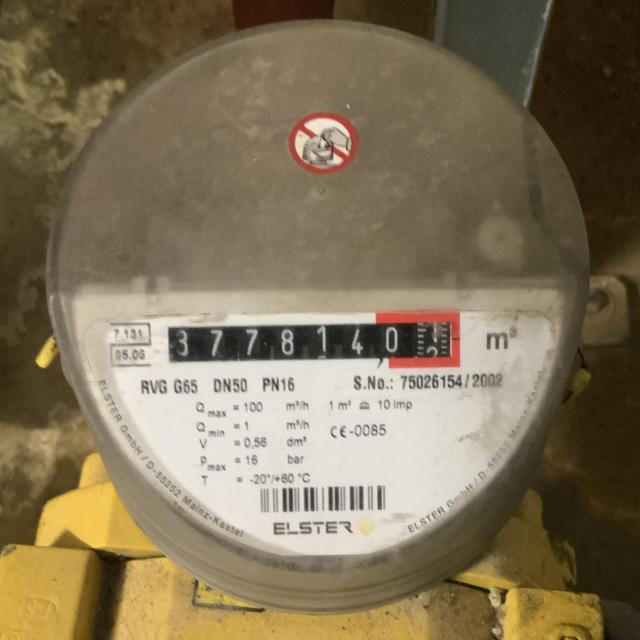gaz_meter: (42, 22, 590, 571)
indication: (166, 319, 452, 365)
